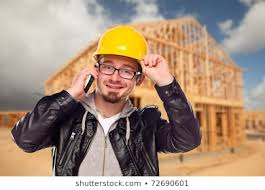Person_wearing_helmet: (83, 22, 158, 78)
